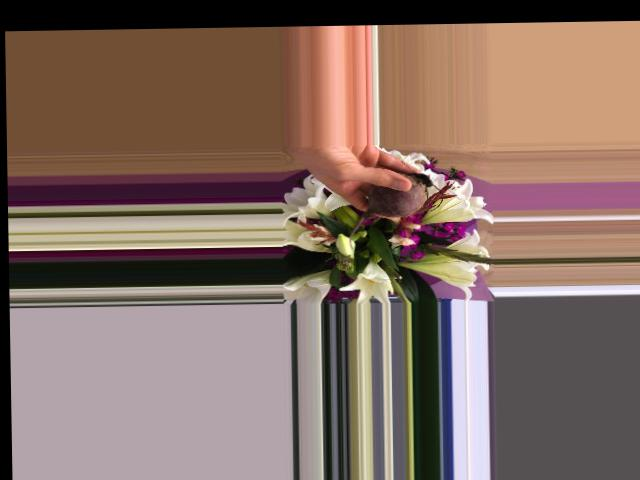beet: (348, 171, 444, 249)
